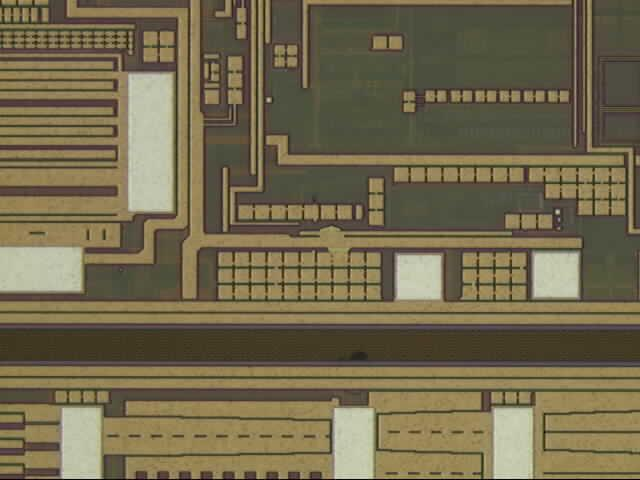BLOCK ETCH: (326, 296, 378, 399), (310, 219, 364, 271)
